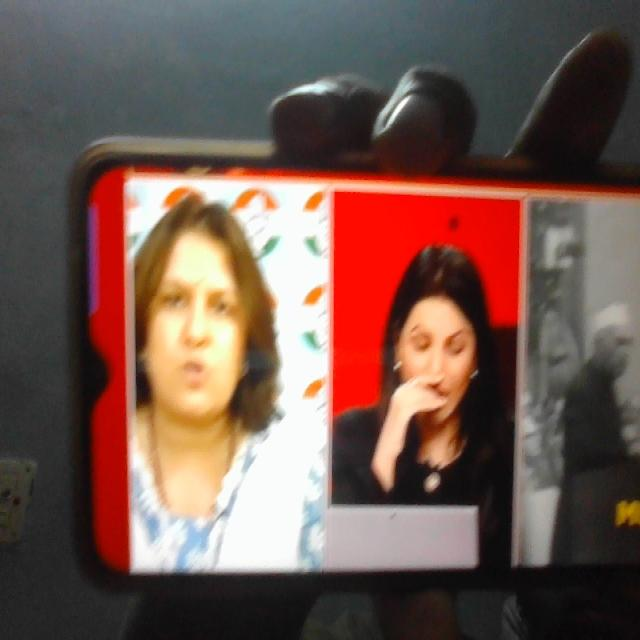fake: (140, 198, 258, 422)
